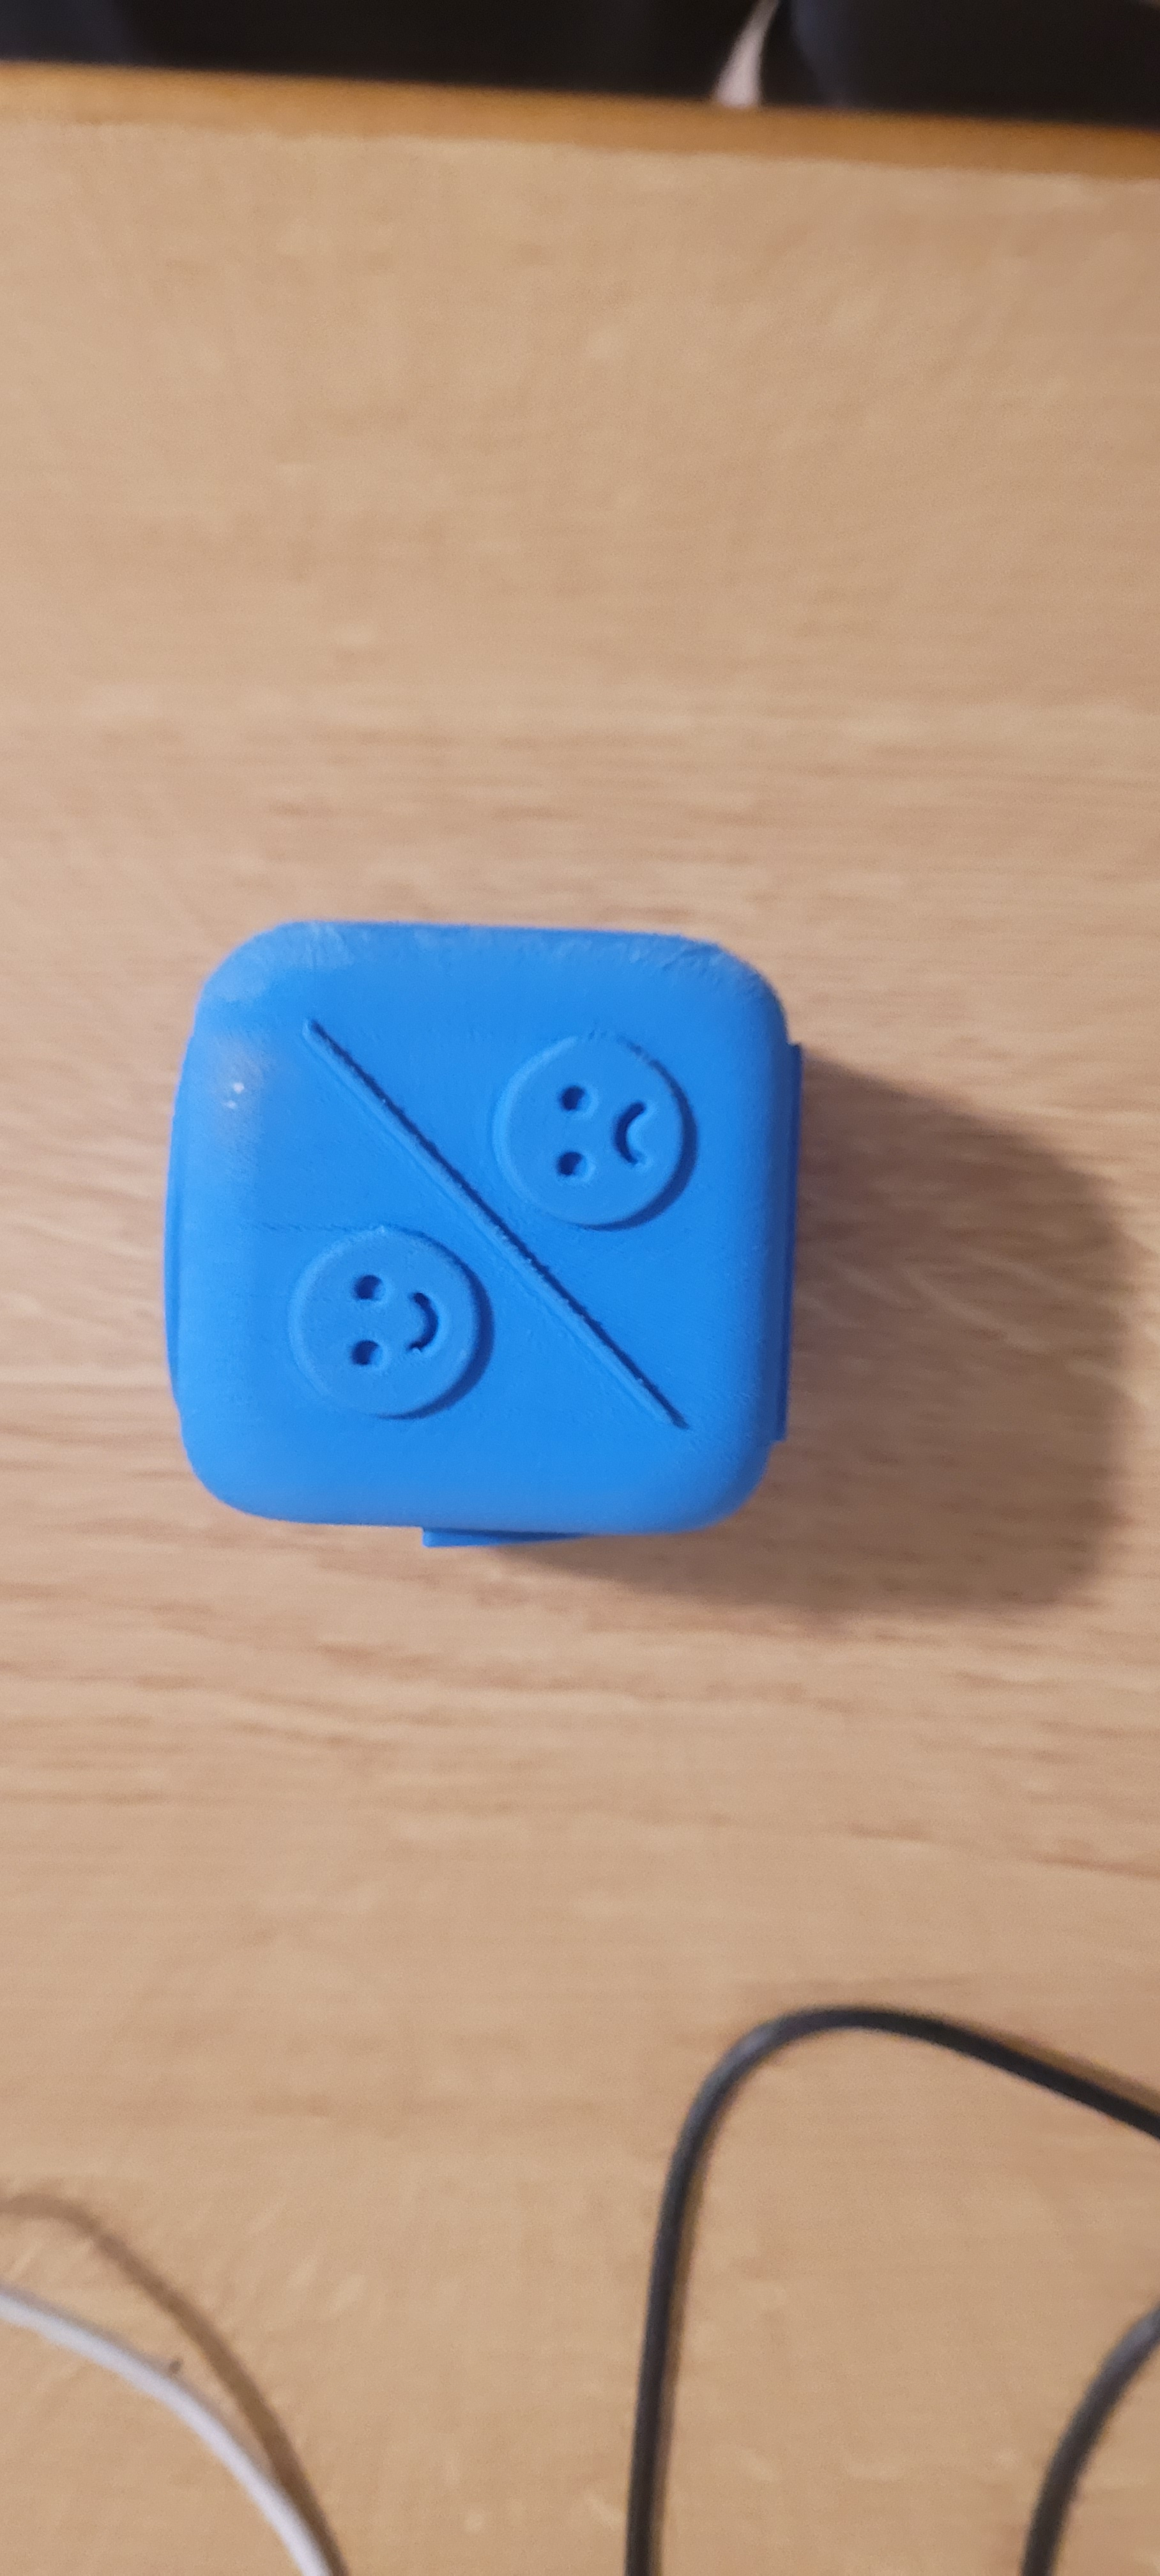Like/Dislike: (184, 946, 777, 1503)
